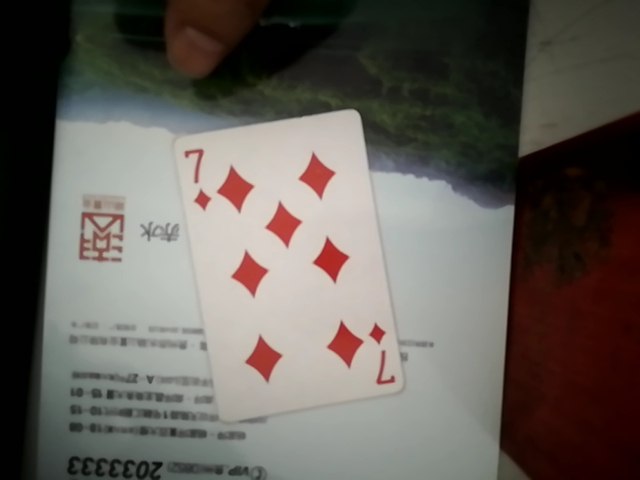fk 7: (177, 106, 392, 429)
